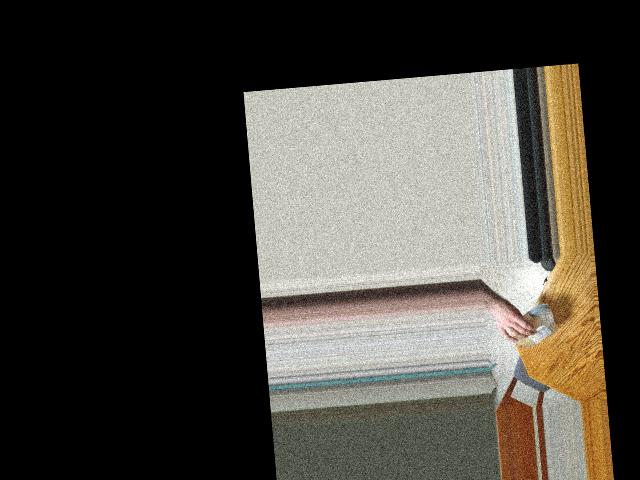cheese: (512, 314, 554, 346)
